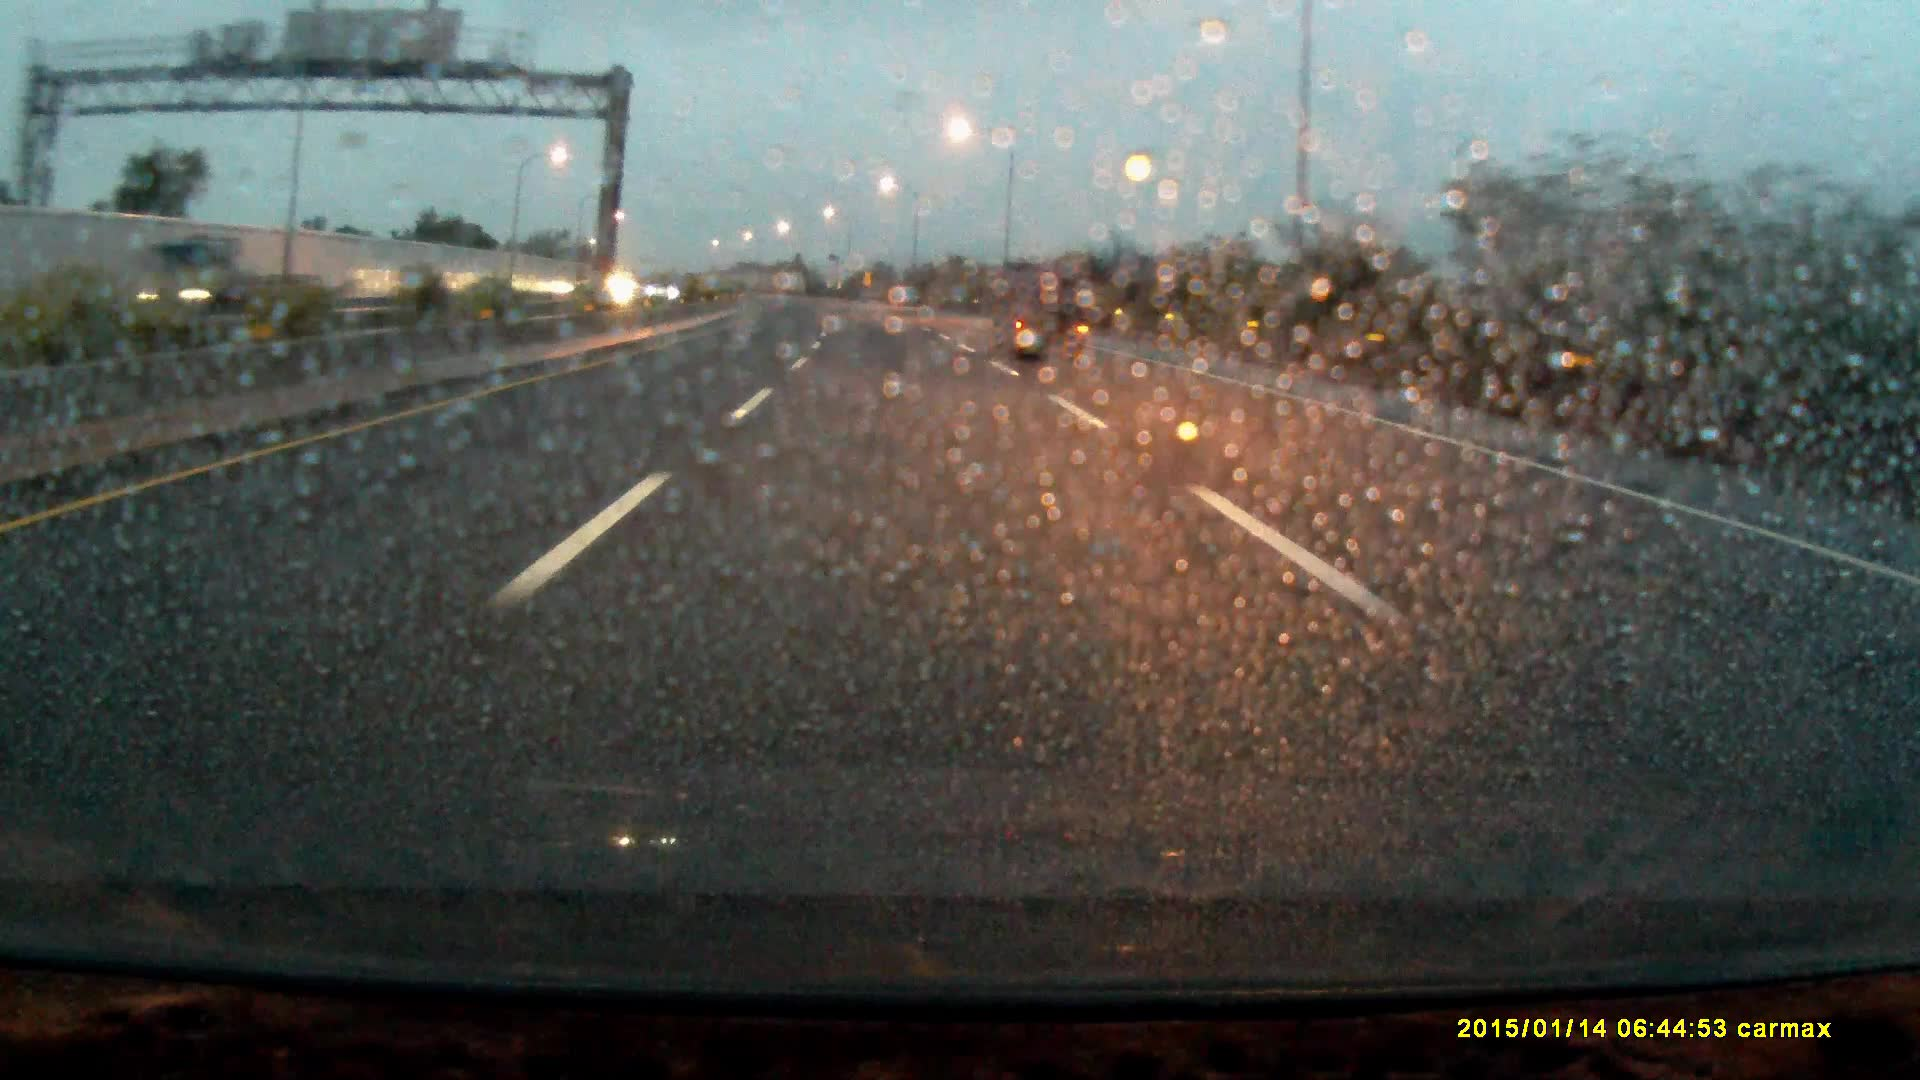vehicle: (125, 235, 306, 324), (1002, 276, 1091, 367)
